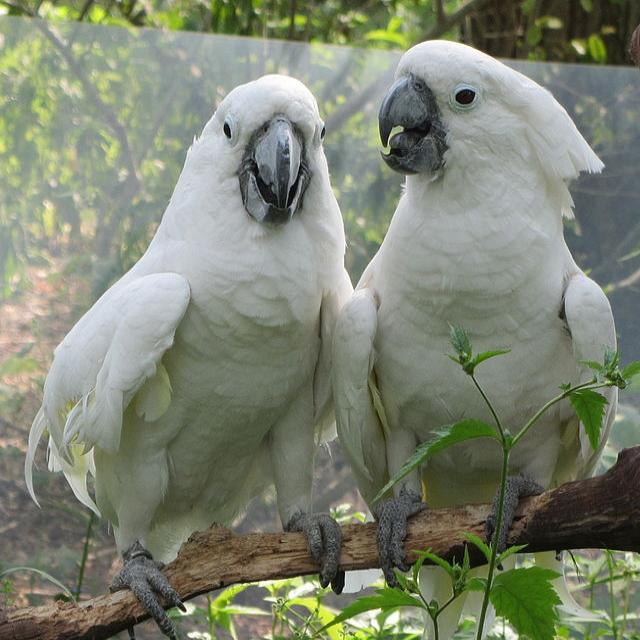Kakatua Putih: (9, 48, 372, 632), (330, 23, 639, 600)
